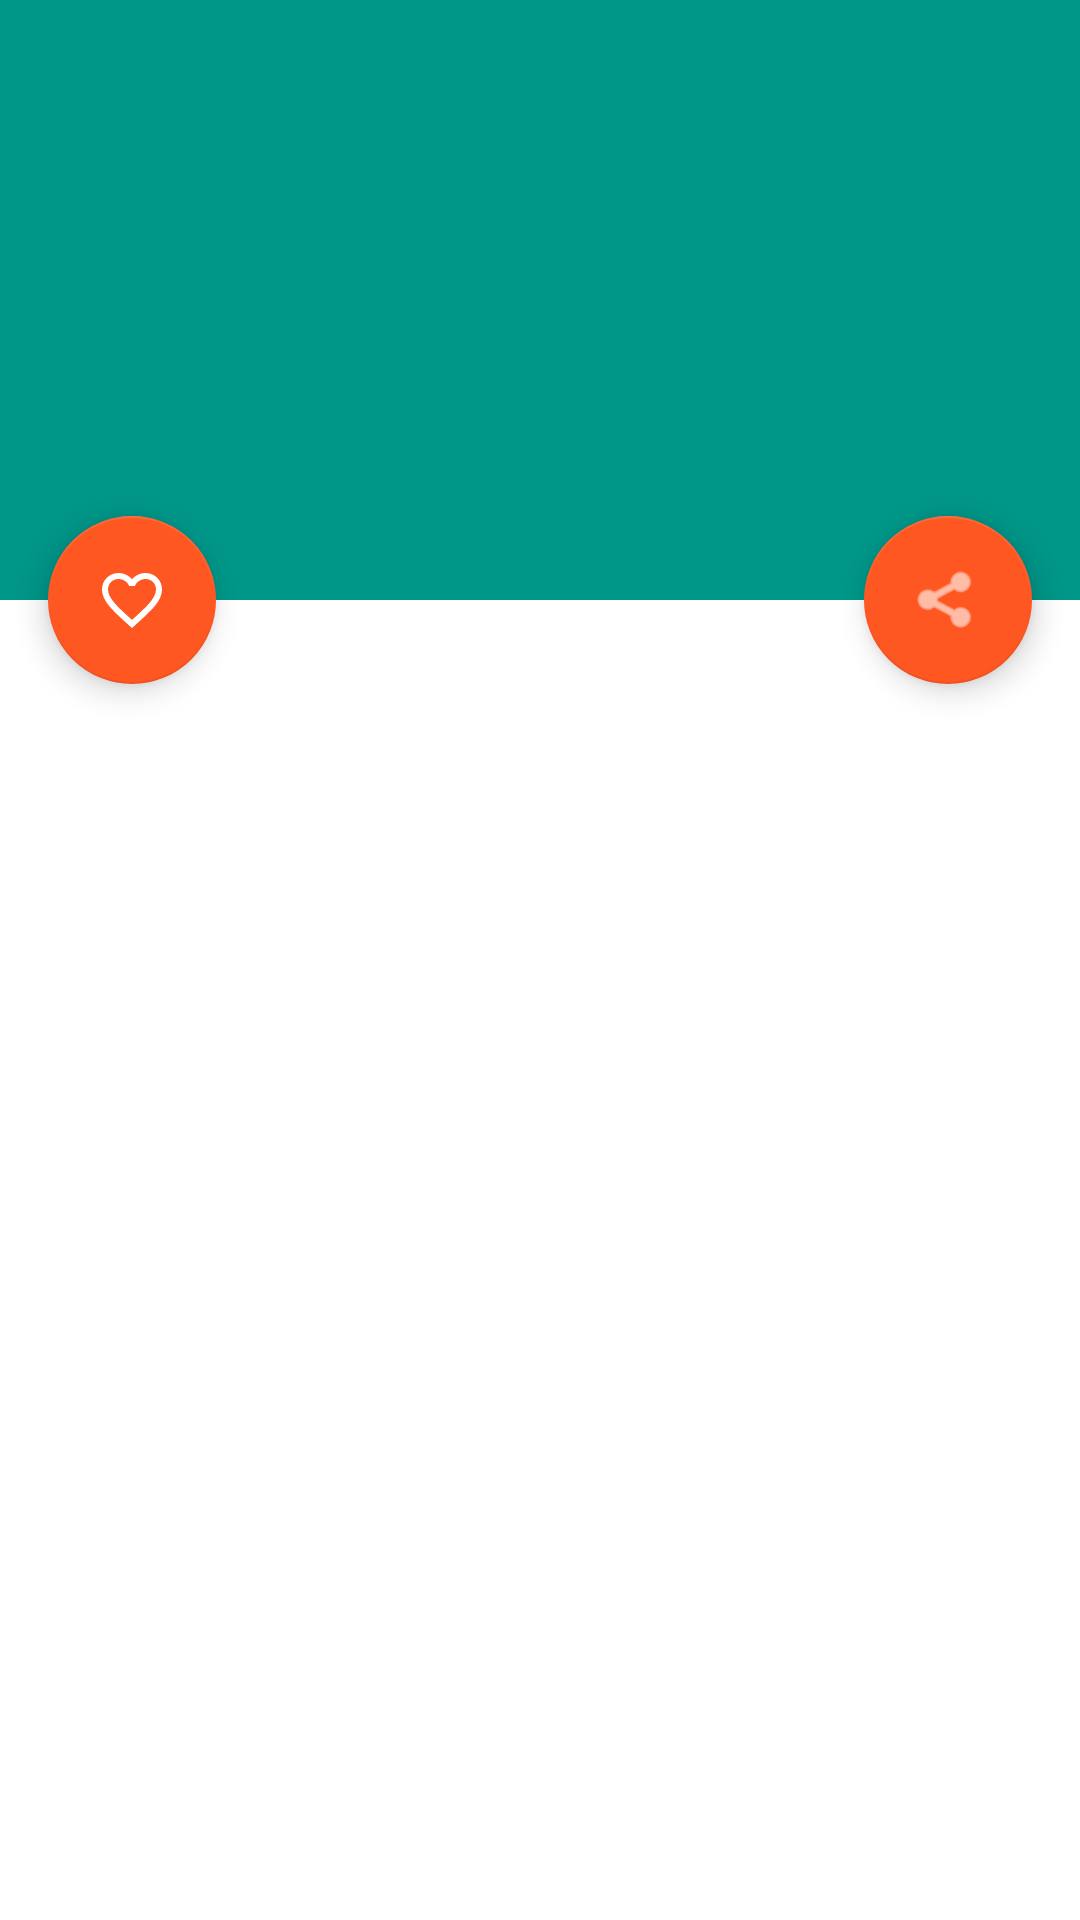

Icon click points for this 1080 × 1920 phone screenshot, format [x,y]:
favorite: [132,600]
share: [948,600]
